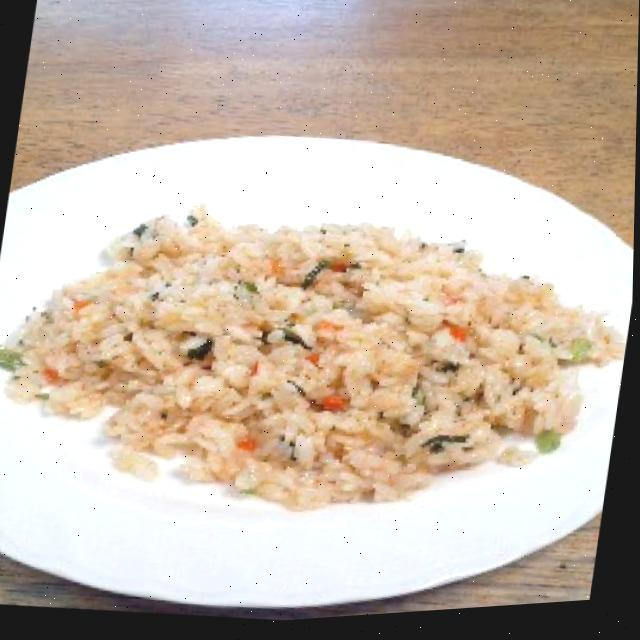米饭主食: (0, 64, 638, 640)
